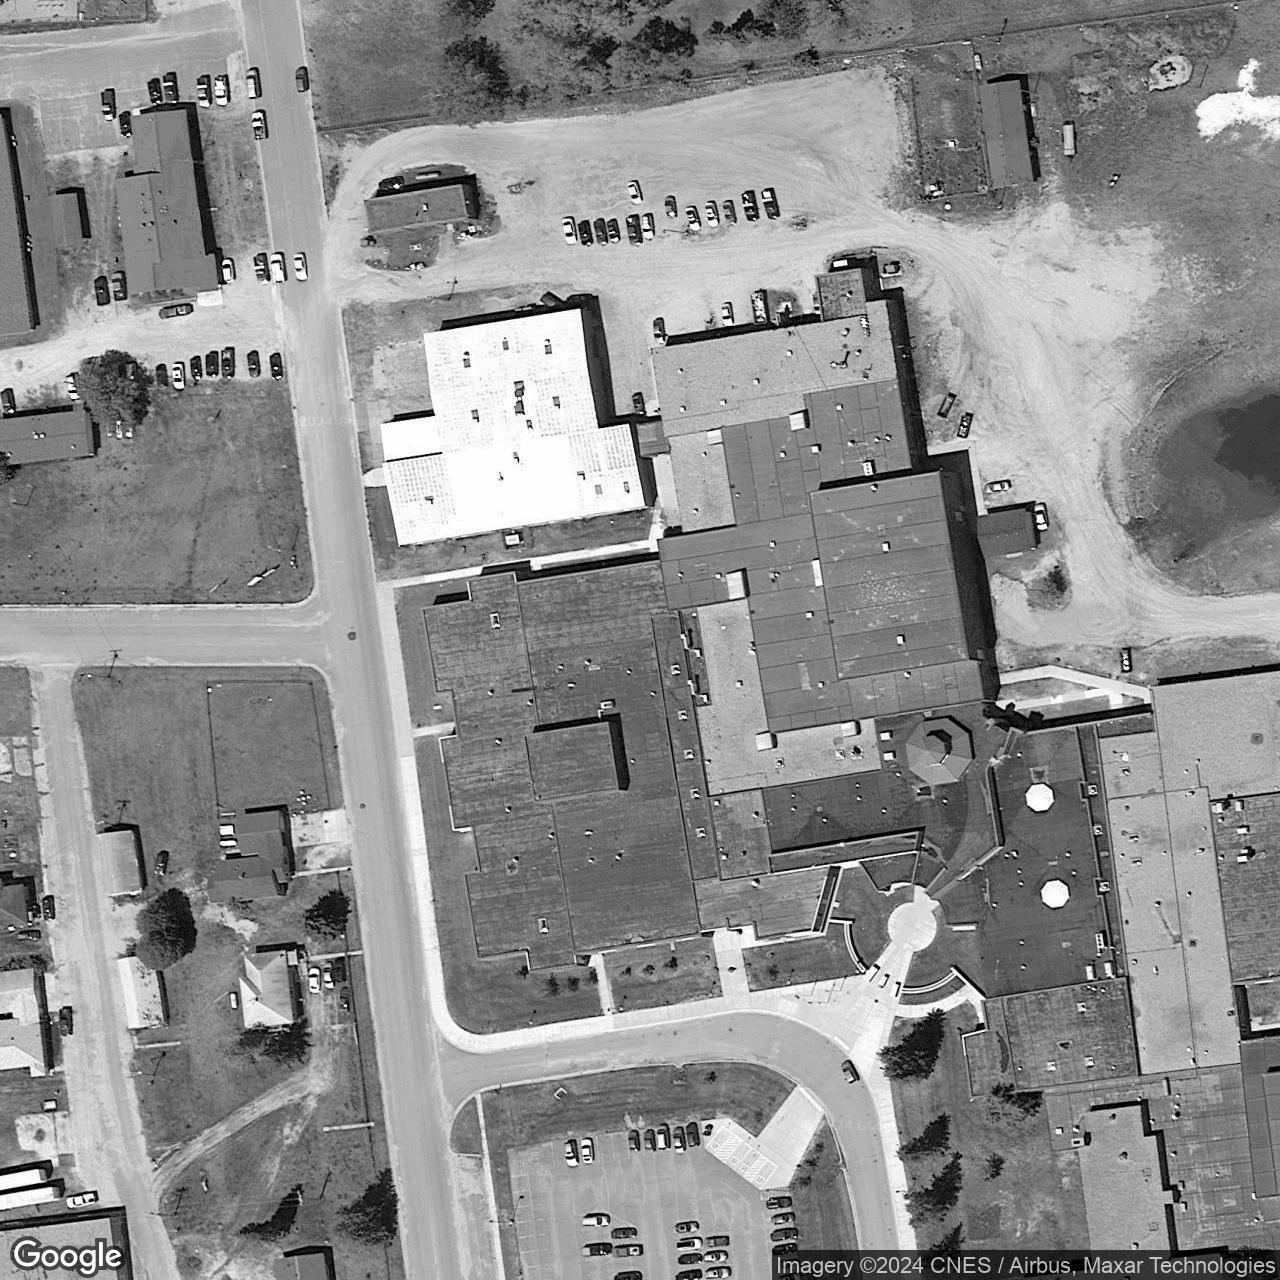Garage: (117, 954, 169, 1032), (95, 830, 144, 898)
House: (111, 108, 222, 297), (0, 1206, 130, 1279), (0, 113, 38, 338), (207, 810, 291, 903), (976, 77, 1036, 188), (365, 184, 477, 236), (0, 409, 96, 468), (1, 969, 50, 1078), (238, 948, 298, 1030), (1, 881, 32, 933), (0, 1186, 60, 1212), (273, 1252, 329, 1279), (0, 1167, 46, 1192)
Other: (380, 267, 1279, 1252)
Propane: (414, 170, 441, 181), (229, 992, 239, 1012), (218, 838, 238, 847)
